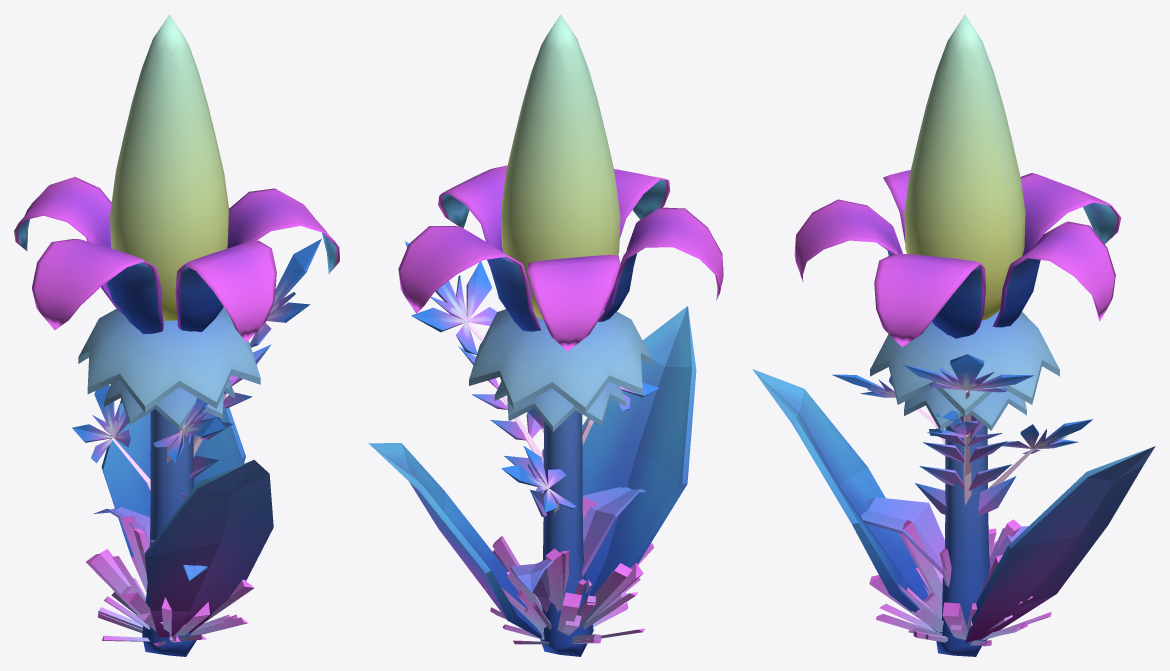
File: frostFlower.fbx
3 views of the same model, side by side, from view 1: azimuth 30°, elevation 25°; view 2: azimuth 150°, elevation 25°; view 3: azimuth 270°, elevation 25° (orthographic).
Parts seen in each view (by area): view 1: frostFlowerMain, snowflakeFlower, crystalMossA, iceFern, crystalFlower, crystalMossB; view 2: frostFlowerMain, crystalMossA, snowflakeFlower, crystalFlower, iceFern, crystalMossB; view 3: frostFlowerMain, snowflakeFlower, crystalMossA, iceFern, crystalFlower, crystalMossB.
Boxes of the visible parts, x1,y1,x2,y2 form: frostFlowerMain: (14, 14, 339, 656); snowflakeFlower: (72, 238, 321, 490); crystalMossA: (86, 516, 253, 646); iceFern: (149, 344, 271, 500); crystalFlower: (93, 379, 231, 580); crystalMossB: (98, 550, 229, 640); frostFlowerMain: (368, 14, 723, 656); crystalMossA: (483, 497, 654, 644); snowflakeFlower: (405, 241, 658, 513); crystalFlower: (510, 408, 645, 612); iceFern: (458, 346, 583, 516); crystalMossB: (495, 567, 626, 640); frostFlowerMain: (752, 14, 1155, 656); snowflakeFlower: (832, 354, 1092, 487); crystalMossA: (869, 519, 1051, 645); iceFern: (915, 420, 1016, 515); crystalFlower: (861, 410, 1028, 574); crystalMossB: (908, 569, 1019, 646).
Size of the model in its own units: 25 by 50.76 by 28.88.
1 material, 1 textured.
